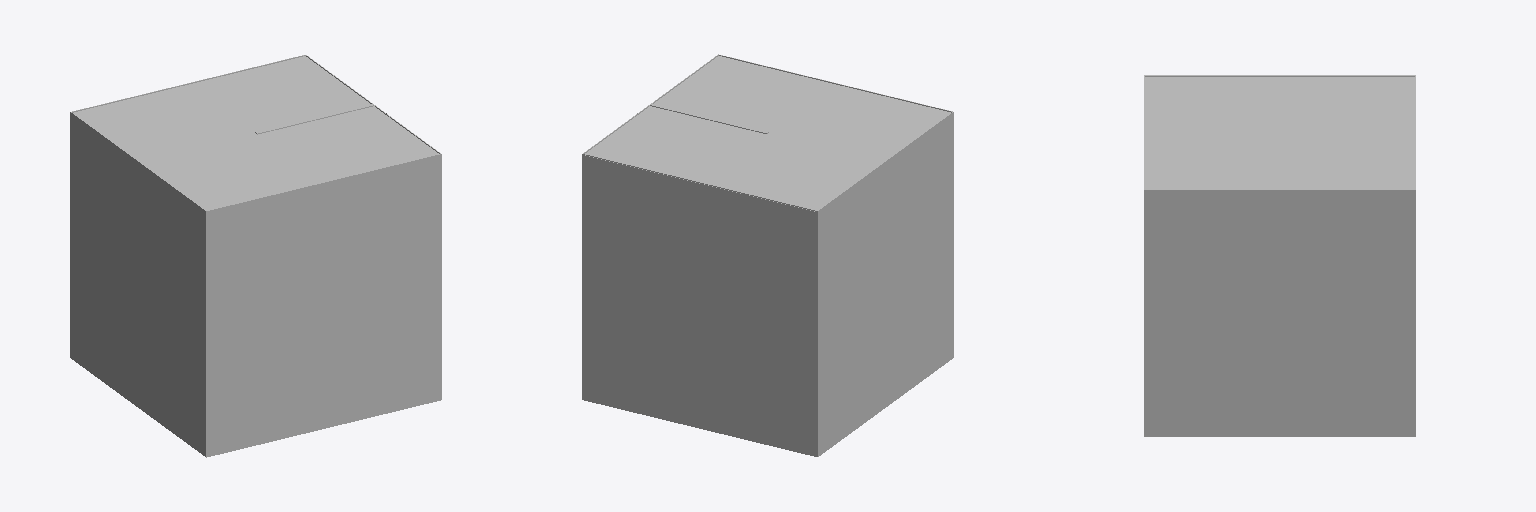
File: lvl1.obj
3 renders of one model, left to right at view 1: azimuth 30°, elevation 25°; view 2: azimuth 150°, elevation 25°; view 3: azimuth 270°, elevation 25°, orthographic.
Parts seen in each view (by area): view 1: Cube; view 2: Cube; view 3: Cube.
Boxes of the visible parts, <box> form: Cube: <box>70,55,441,457</box>; Cube: <box>582,54,953,456</box>; Cube: <box>1144,75,1415,436</box>.
Size of the model in its own units: 24.28 by 24.28 by 24.33.